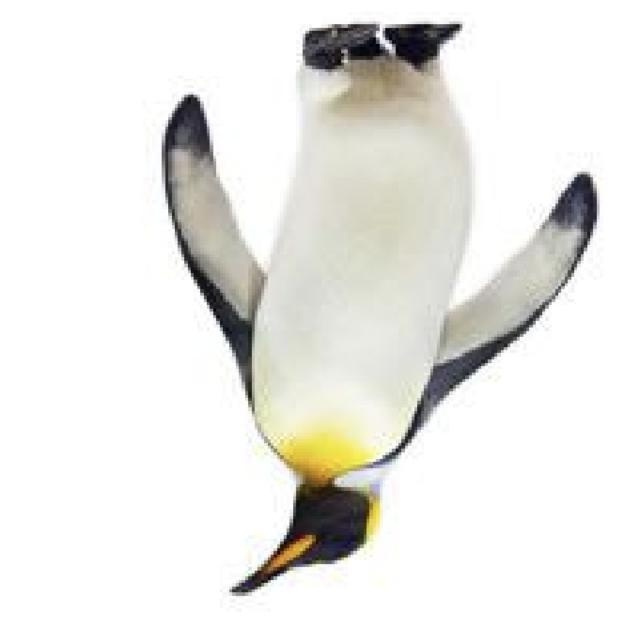penguin: (160, 21, 600, 597)
